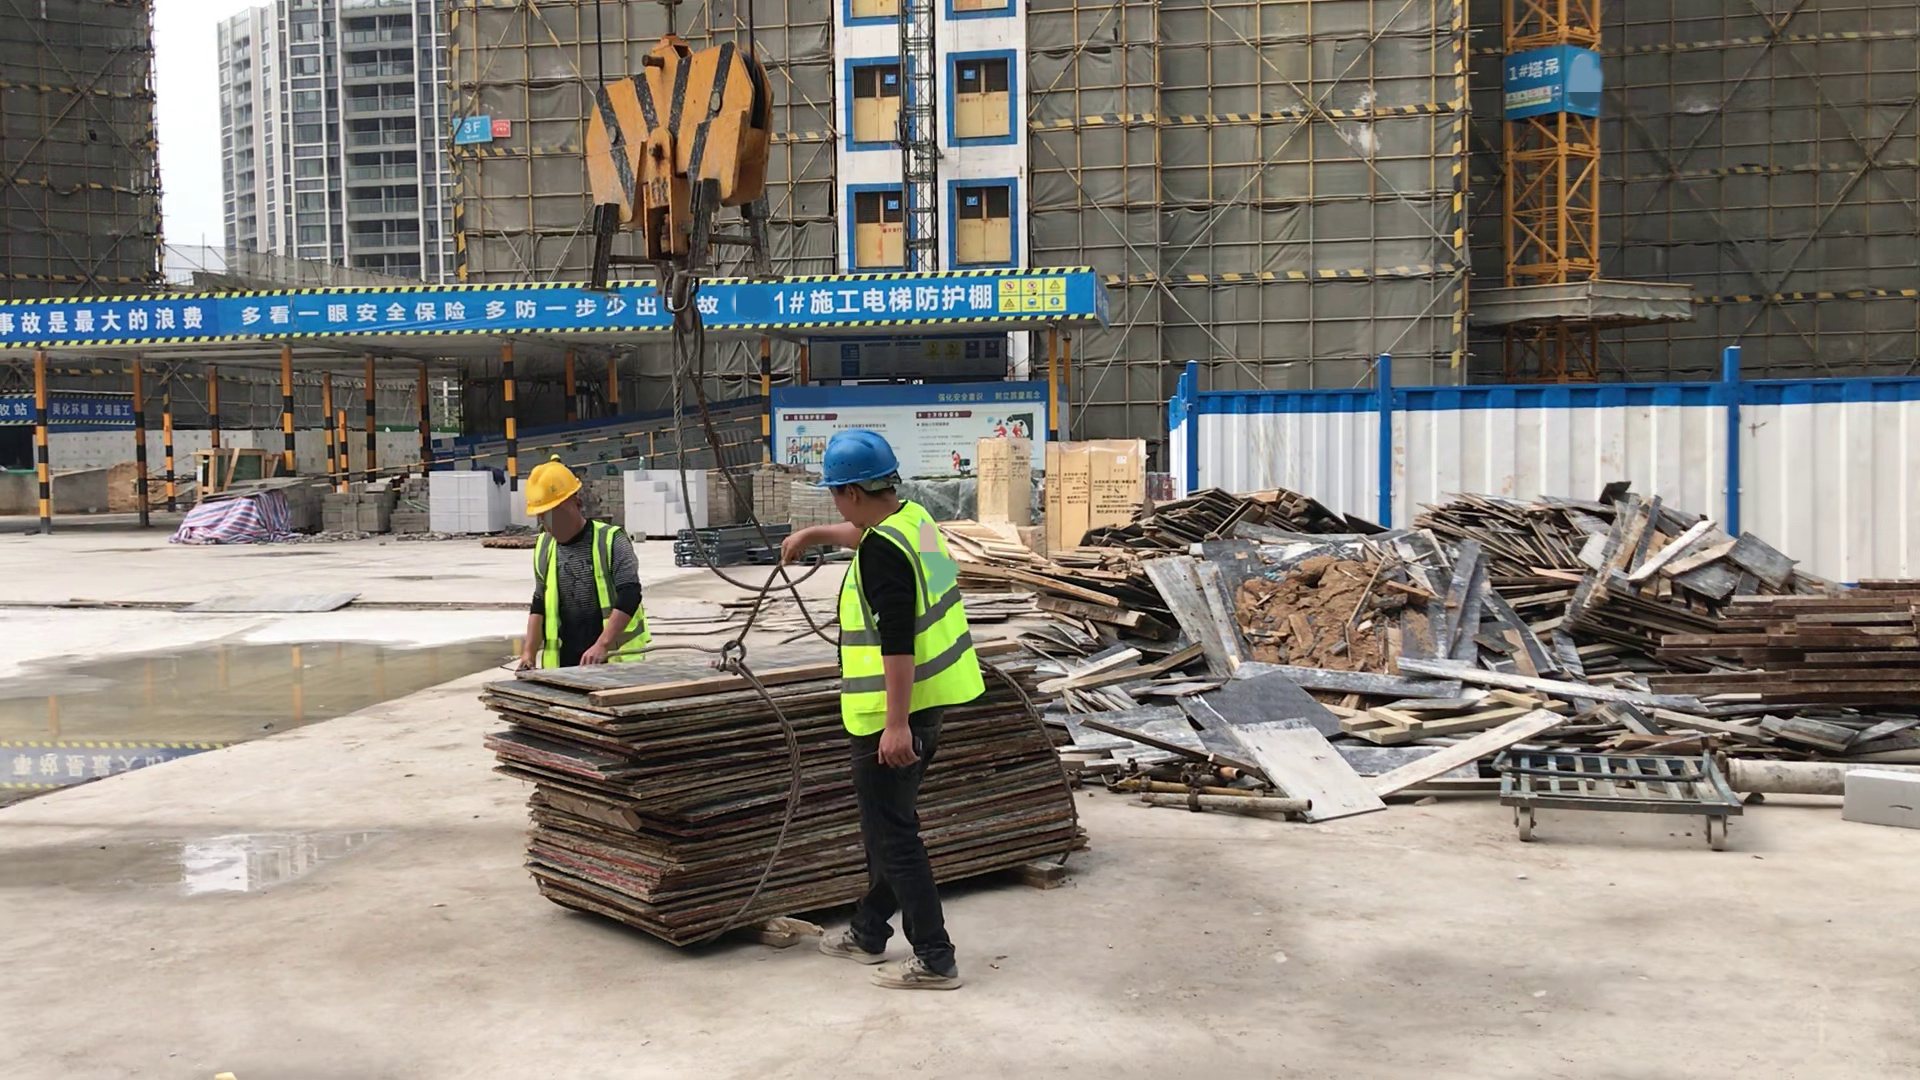board: (480, 645, 1095, 949)
brick: (427, 465, 534, 538), (623, 466, 713, 539)
helmet: (817, 432, 898, 495), (524, 466, 580, 516)
hook: (587, 30, 795, 339)
person: (777, 428, 974, 993), (519, 461, 656, 671)
slogan: (3, 289, 727, 334), (994, 278, 1071, 312), (1508, 87, 1558, 108)
vest: (835, 501, 983, 742), (533, 520, 651, 672)
